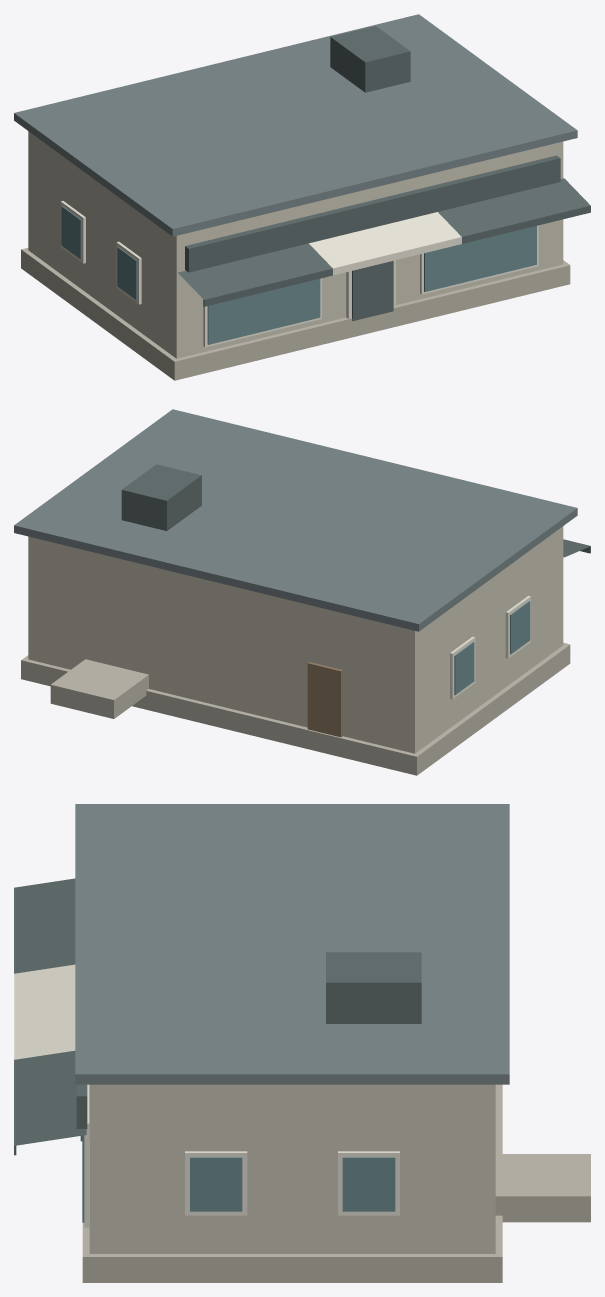
3 views of the same model, one above another, from view 1: azimuth 30°, elevation 25°; view 2: azimuth 150°, elevation 25°; view 3: azimuth 270°, elevation 25° (orthographic). The views are drawn at different scales.
Bounding box in the file's own units: 13.4 × 5.85 × 12.09.
